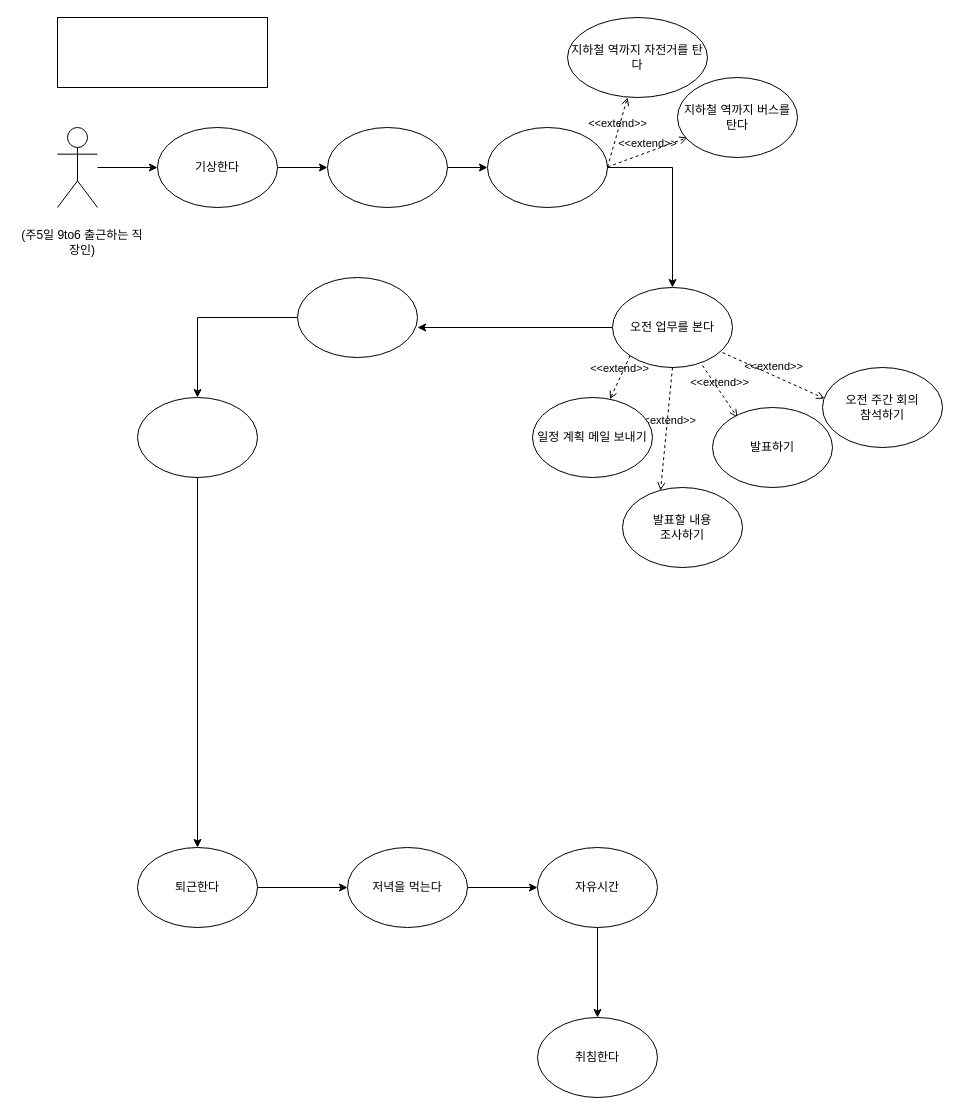
Some shapes in this 960 by 1115 pixel diagram are drawn without their labels. The box of each missing label's shape, as (x1, y1, x2, y2) in pixels:
Actor: (56, 126, 98, 208)
오후 업무를 본다: (136, 396, 258, 478)
점심을 먹는다: (296, 276, 418, 358)
주제 : 하루 일정 계획: (56, 16, 268, 88)
출근 준비한다: (326, 126, 448, 208)
출근한다: (486, 126, 608, 208)
